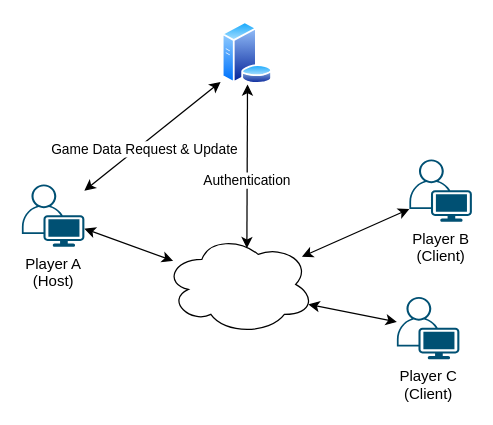
Image size: 493x425. Some labels were removed from this diagram. The shapes that lost their labels are listed below. From the top down, each one's centre as x and y in pixels, then its label:
(246,52): Player Account and Database Server
(238,283): Photon PUN Match Making Service
